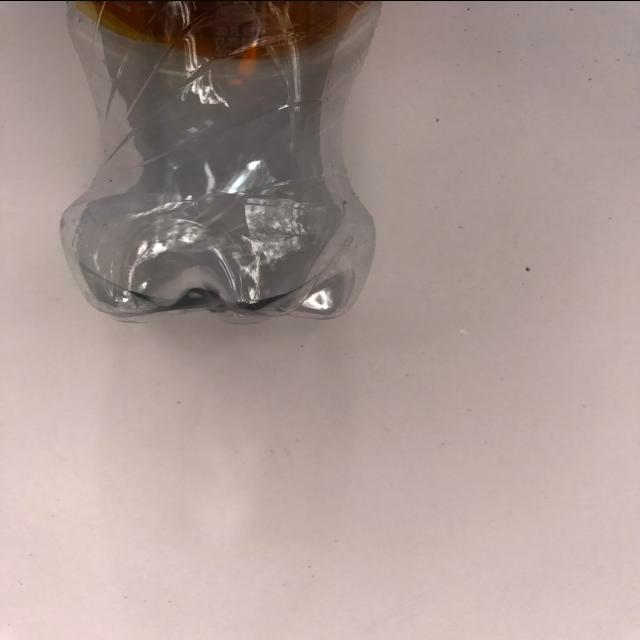plastic: (11, 1, 410, 337)
